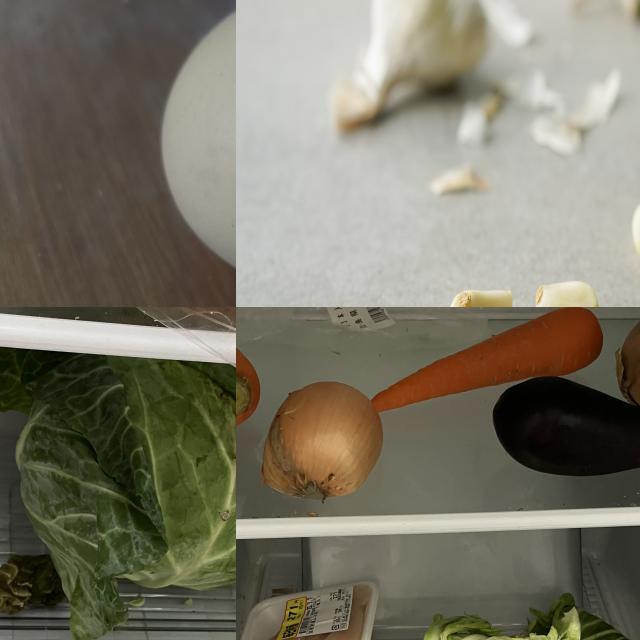cabbage: (1, 343, 237, 640), (379, 593, 640, 640)
carrot: (366, 308, 608, 409), (237, 312, 265, 433)
egg: (159, 1, 237, 302)
eggplant: (492, 373, 640, 482)
garlic: (535, 276, 605, 308), (447, 286, 516, 308)
onion: (259, 380, 387, 505)
